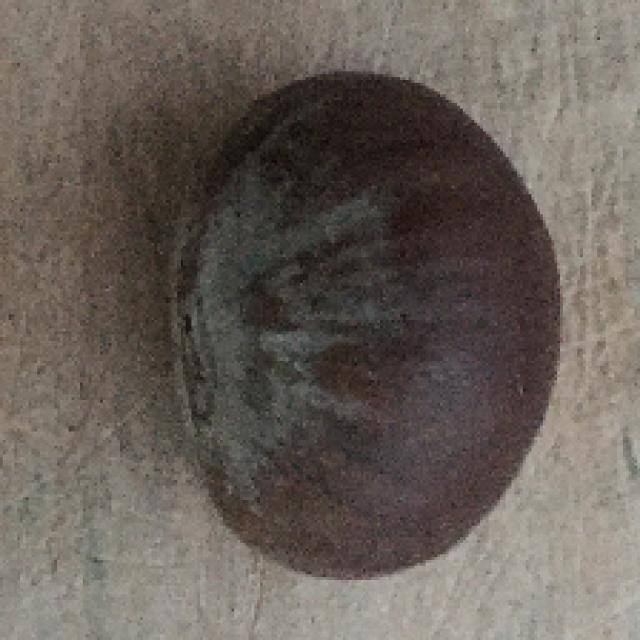damagedHazelnut: (174, 62, 565, 582)
